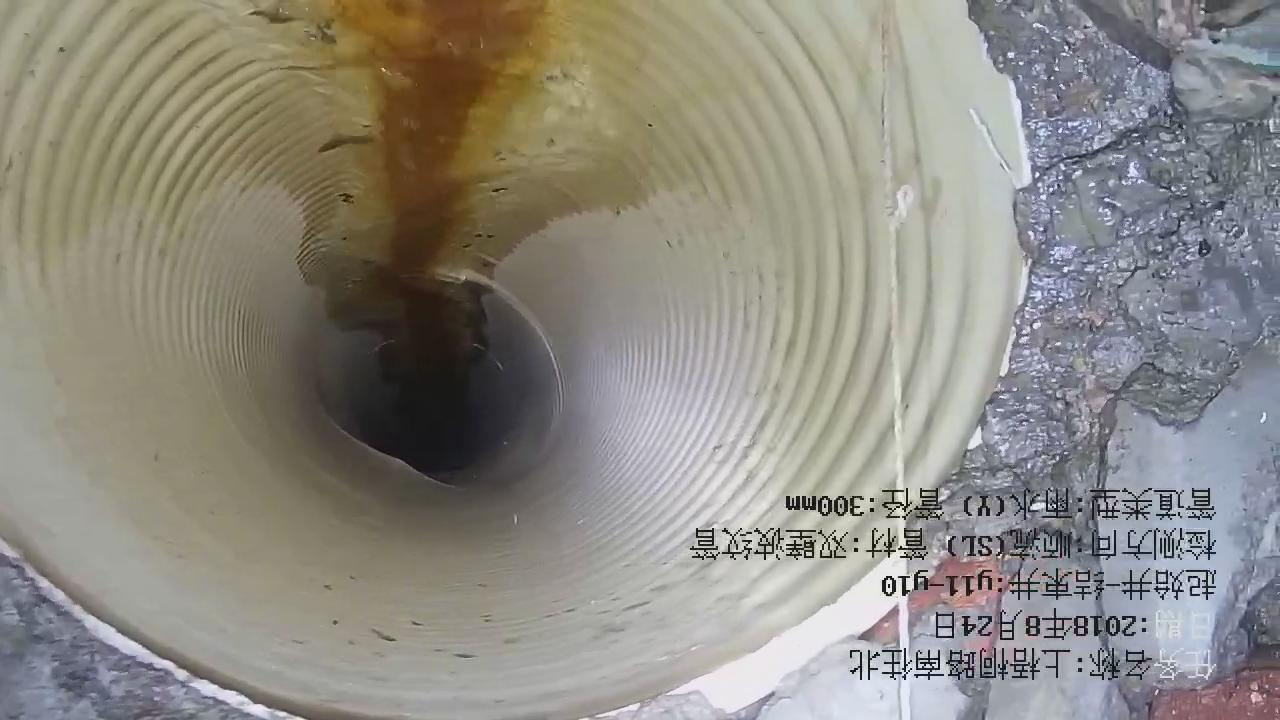BX: (278, 266, 577, 508)
